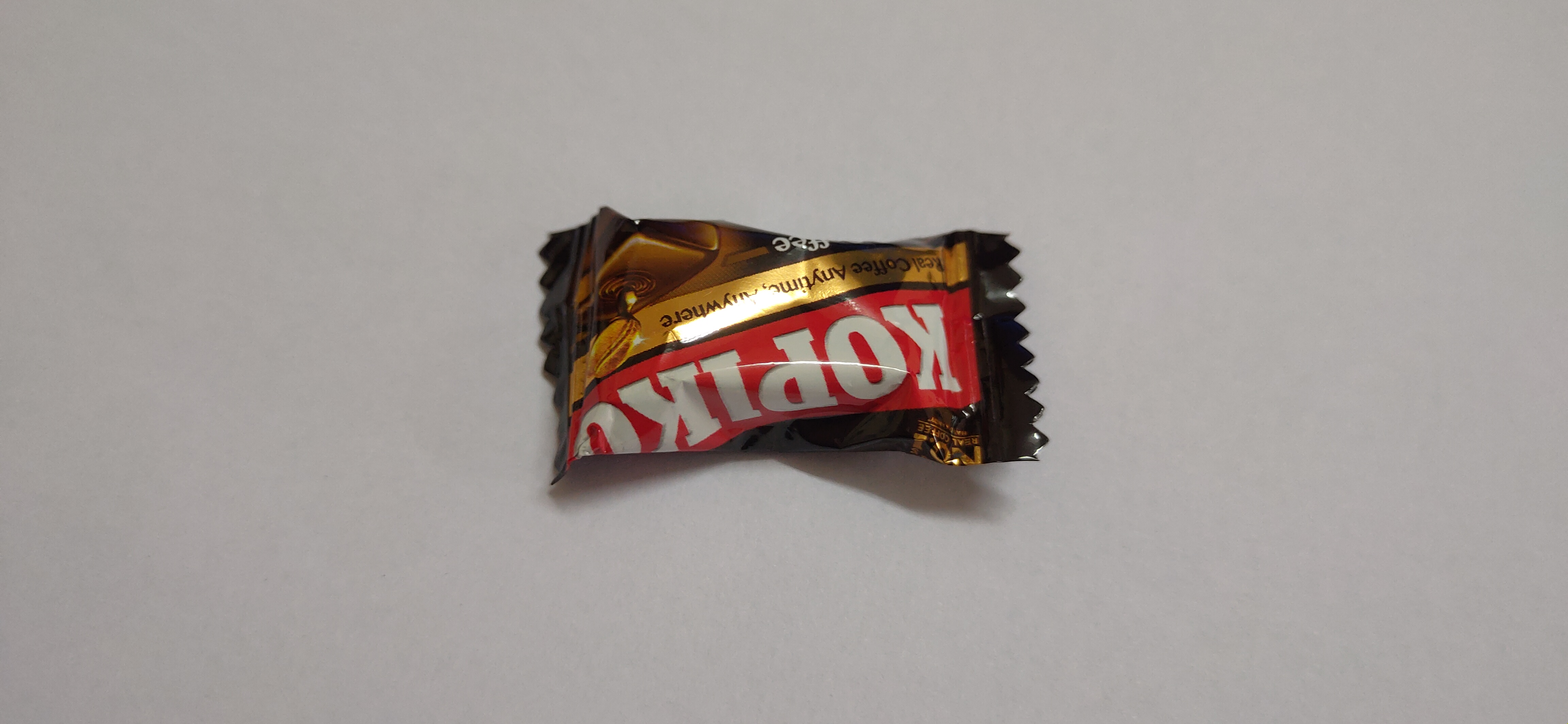plastic: (521, 198, 1081, 511)
